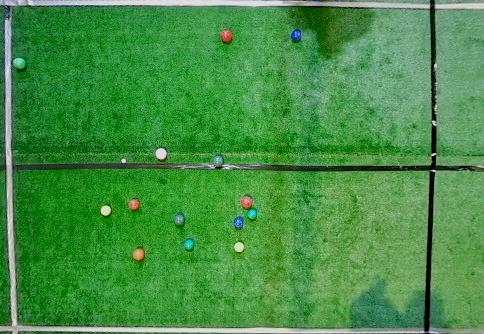blue: (233, 217, 244, 228), (291, 29, 301, 41)
green: (173, 213, 185, 226), (13, 58, 26, 69), (212, 156, 223, 167), (247, 209, 257, 220), (184, 239, 193, 250)
red: (221, 29, 232, 43), (155, 148, 167, 160), (240, 196, 252, 208), (128, 199, 139, 210), (133, 249, 144, 260)
vline: (424, 1, 484, 333), (0, 1, 22, 333)
white: (121, 159, 126, 163)
yellow: (100, 205, 112, 216), (234, 242, 244, 252)
